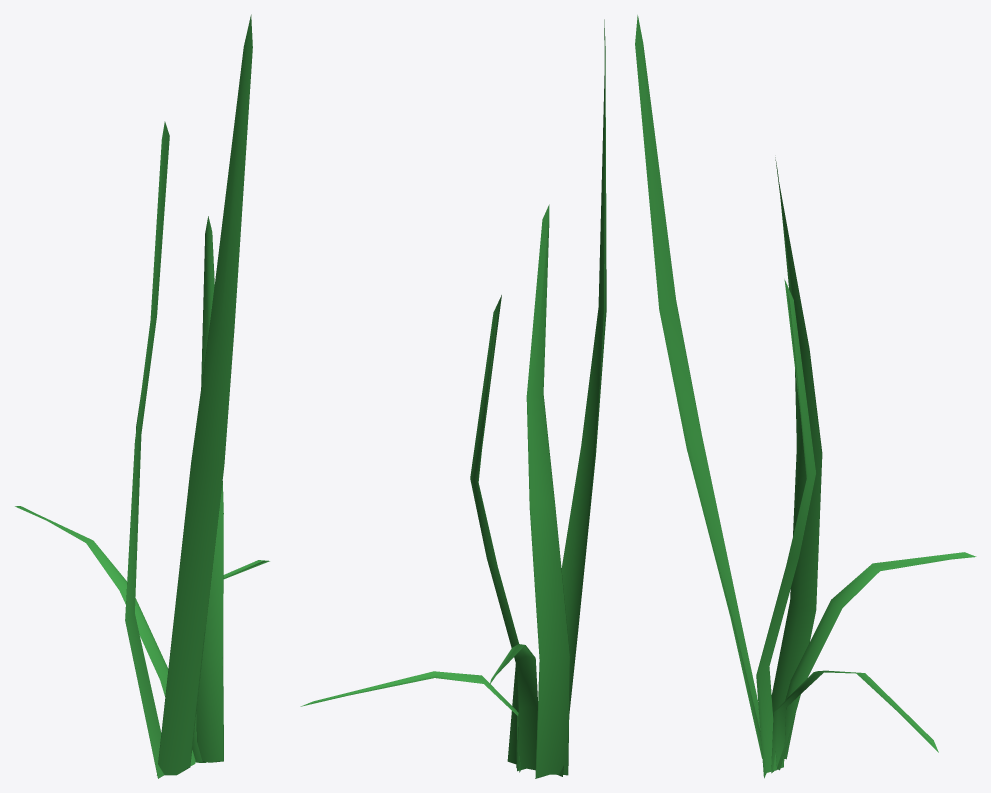
File: SM_HerbeBrin2.fbx
The picture shows the model from 3 angles, left to right: view 1: azimuth 30°, elevation 25°; view 2: azimuth 150°, elevation 25°; view 3: azimuth 270°, elevation 25°; orthographic projection. The views are drawn at different scales.
Parts seen in each view (by area): view 1: SM_Herbe_04; view 2: SM_Herbe_04; view 3: SM_Herbe_04.
Part boxes in pixels (x1,y1,x2,y2): SM_Herbe_04: (15,14,269,778); SM_Herbe_04: (300,19,606,778); SM_Herbe_04: (635,15,976,778).
Size of the model in its own units: 4.38 by 5.94 by 14.32.
1 material, 1 textured.
